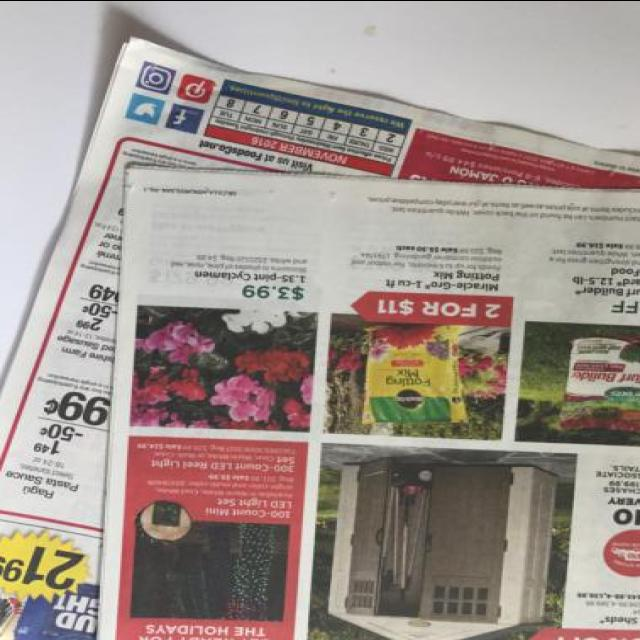kertas: (0, 31, 640, 640)
